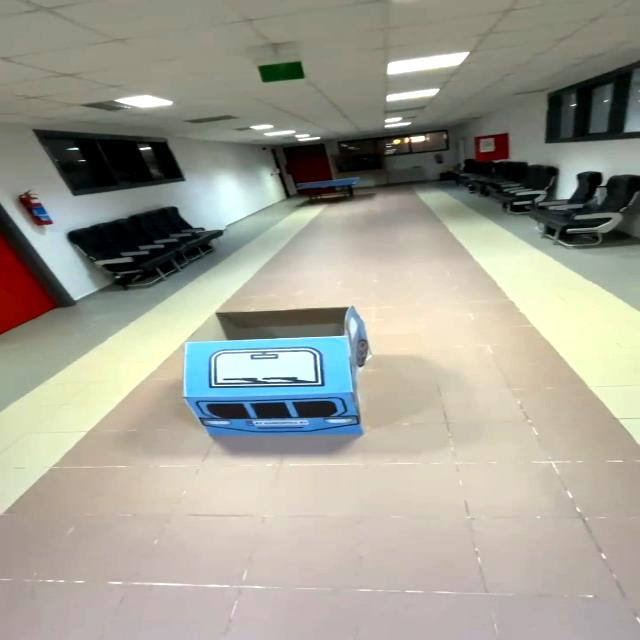blue_car: (153, 296, 398, 451)
